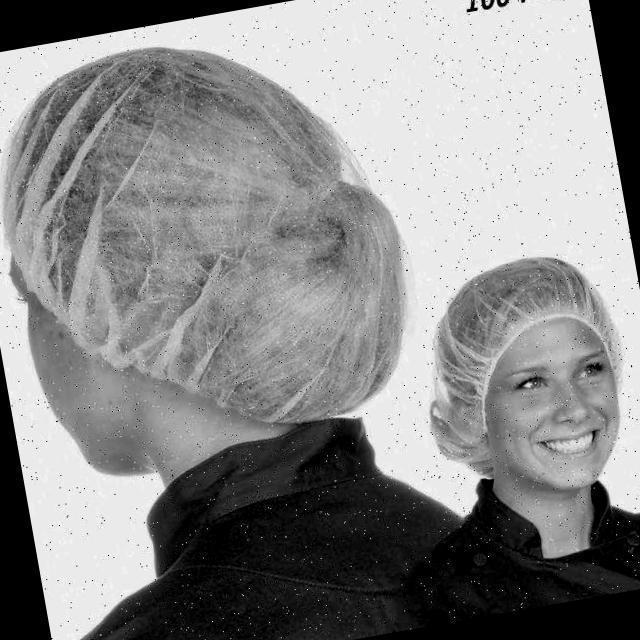gloves: (43, 88, 325, 314), (428, 249, 622, 365)
no_hairnet: (510, 386, 638, 466)
